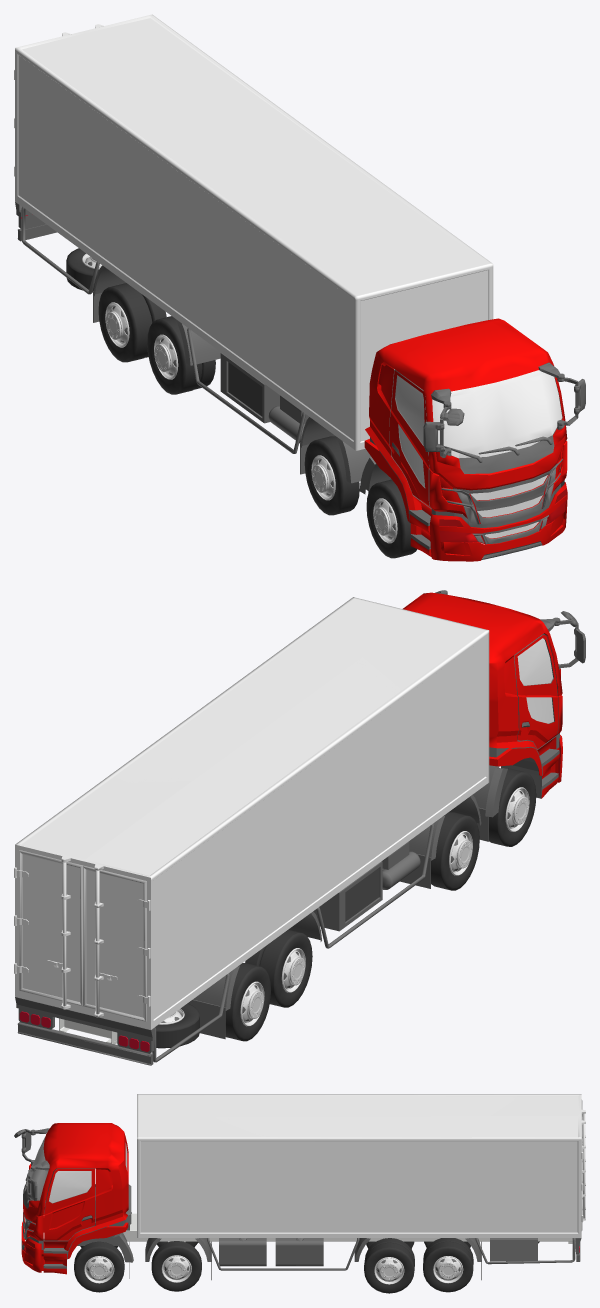
File: aaa.glb
3 renders of one model, top to bottom at view 1: azimuth 30°, elevation 25°; view 2: azimuth 150°, elevation 25°; view 3: azimuth 270°, elevation 25°, orthographic. The views are drawn at different scales.
Parts seen in each view (by area): view 1: Truck_body_Truck_body.L, Truck_head_Truck_head.L, Truck_door.R, wheels_Circle.004, wheels_Circle.003, wheels_Circle.001, wheels_Circle.005, Truck_Toolbox1, Truck_backmirror.L, Truck_Brakesys, wheel_Circle.001, Truck_backmirror.R; view 2: Truck_body_Truck_body.L, Truck_head_Truck_head.L, Truck_door.R, wheels_Circle.001, wheels_Circle.003, wheels_Circle.004, wheels_Circle.005, Truck_Toolbox1, wheel_Circle.001, Truck_Brakesys, Truck_backmirror.L; view 3: Truck_body_Truck_body.L, Truck_head_Truck_head.L, Truck_door.L, wheels_Circle.003, wheels_Circle.005, wheels_Circle.001, wheels_Circle.004, Truck_Fueltank02, Truck_Fueltank01, Truck_Toolbox, Truck_backmirror.L, Truck_backmirror.R (+2 smaller).
Part boxes in pixels (x1,y1,x2,y2): Truck_body_Truck_body.L: [14, 14, 493, 483]; Truck_head_Truck_head.L: [359, 318, 567, 561]; Truck_door.R: [389, 370, 430, 507]; wheels_Circle.004: [98, 283, 152, 362]; wheels_Circle.003: [304, 436, 359, 515]; wheels_Circle.001: [147, 316, 202, 394]; wheels_Circle.005: [366, 479, 417, 558]; Truck_Toolbox1: [220, 353, 279, 423]; Truck_backmirror.L: [423, 388, 464, 457]; Truck_Brakesys: [268, 395, 308, 443]; wheel_Circle.001: [66, 248, 102, 292]; Truck_backmirror.R: [538, 362, 585, 429]; Truck_body_Truck_body.L: [14, 597, 489, 1065]; Truck_head_Truck_head.L: [403, 592, 562, 841]; Truck_door.R: [514, 634, 558, 749]; wheels_Circle.001: [259, 929, 312, 1007]; wheels_Circle.003: [431, 812, 479, 890]; wheels_Circle.004: [225, 963, 271, 1041]; wheels_Circle.005: [489, 768, 536, 846]; Truck_Toolbox1: [313, 861, 382, 931]; wheel_Circle.001: [155, 1003, 199, 1048]; Truck_Brakesys: [382, 841, 420, 889]; Truck_backmirror.L: [540, 611, 585, 669]; Truck_body_Truck_body.L: [123, 1094, 585, 1280]; Truck_head_Truck_head.L: [21, 1123, 133, 1278]; Truck_door.L: [44, 1168, 95, 1240]; wheels_Circle.003: [151, 1241, 201, 1291]; wheels_Circle.005: [74, 1241, 124, 1292]; wheels_Circle.001: [364, 1242, 414, 1293]; wheels_Circle.004: [423, 1241, 473, 1292]; Truck_Fueltank02: [275, 1238, 323, 1266]; Truck_Fueltank01: [219, 1238, 266, 1266]; Truck_Toolbox: [490, 1238, 537, 1261]; Truck_backmirror.L: [14, 1128, 49, 1165]; Truck_backmirror.R: [28, 1160, 49, 1200].
Bounding box in the file's own units: 20.1 × 27.38 × 91.75.
